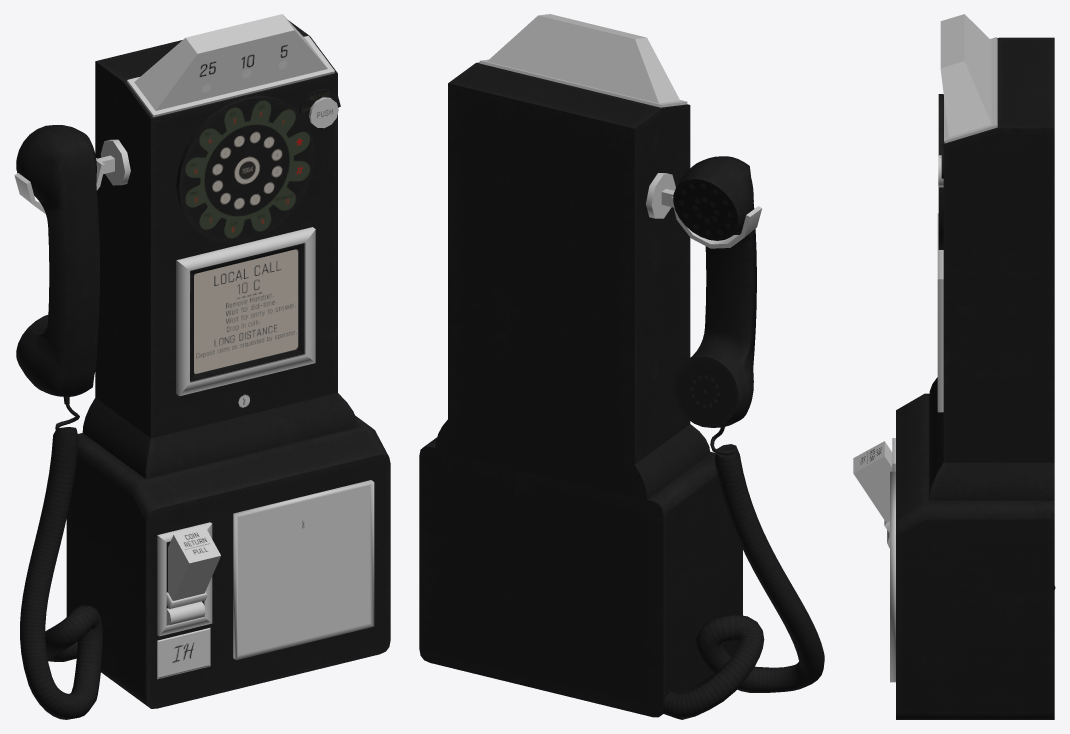
Rendered from Telephone.FBX.
3 renders of one model, left to right at view 1: azimuth 30°, elevation 25°; view 2: azimuth 150°, elevation 25°; view 3: azimuth 270°, elevation 25°, orthographic.
Parts seen in each view (by area): view 1: Telephone_LOD0; view 2: Telephone_LOD0; view 3: Telephone_LOD0.
Part boxes in pixels (x1=…): Telephone_LOD0: x1=14, y1=14, x2=390, y2=719; Telephone_LOD0: x1=419, y1=14, x2=824, y2=719; Telephone_LOD0: x1=853, y1=14, x2=1055, y2=719.
Size of what is drawn, in the model's own units: 32.39 by 57.2 by 16.58.
